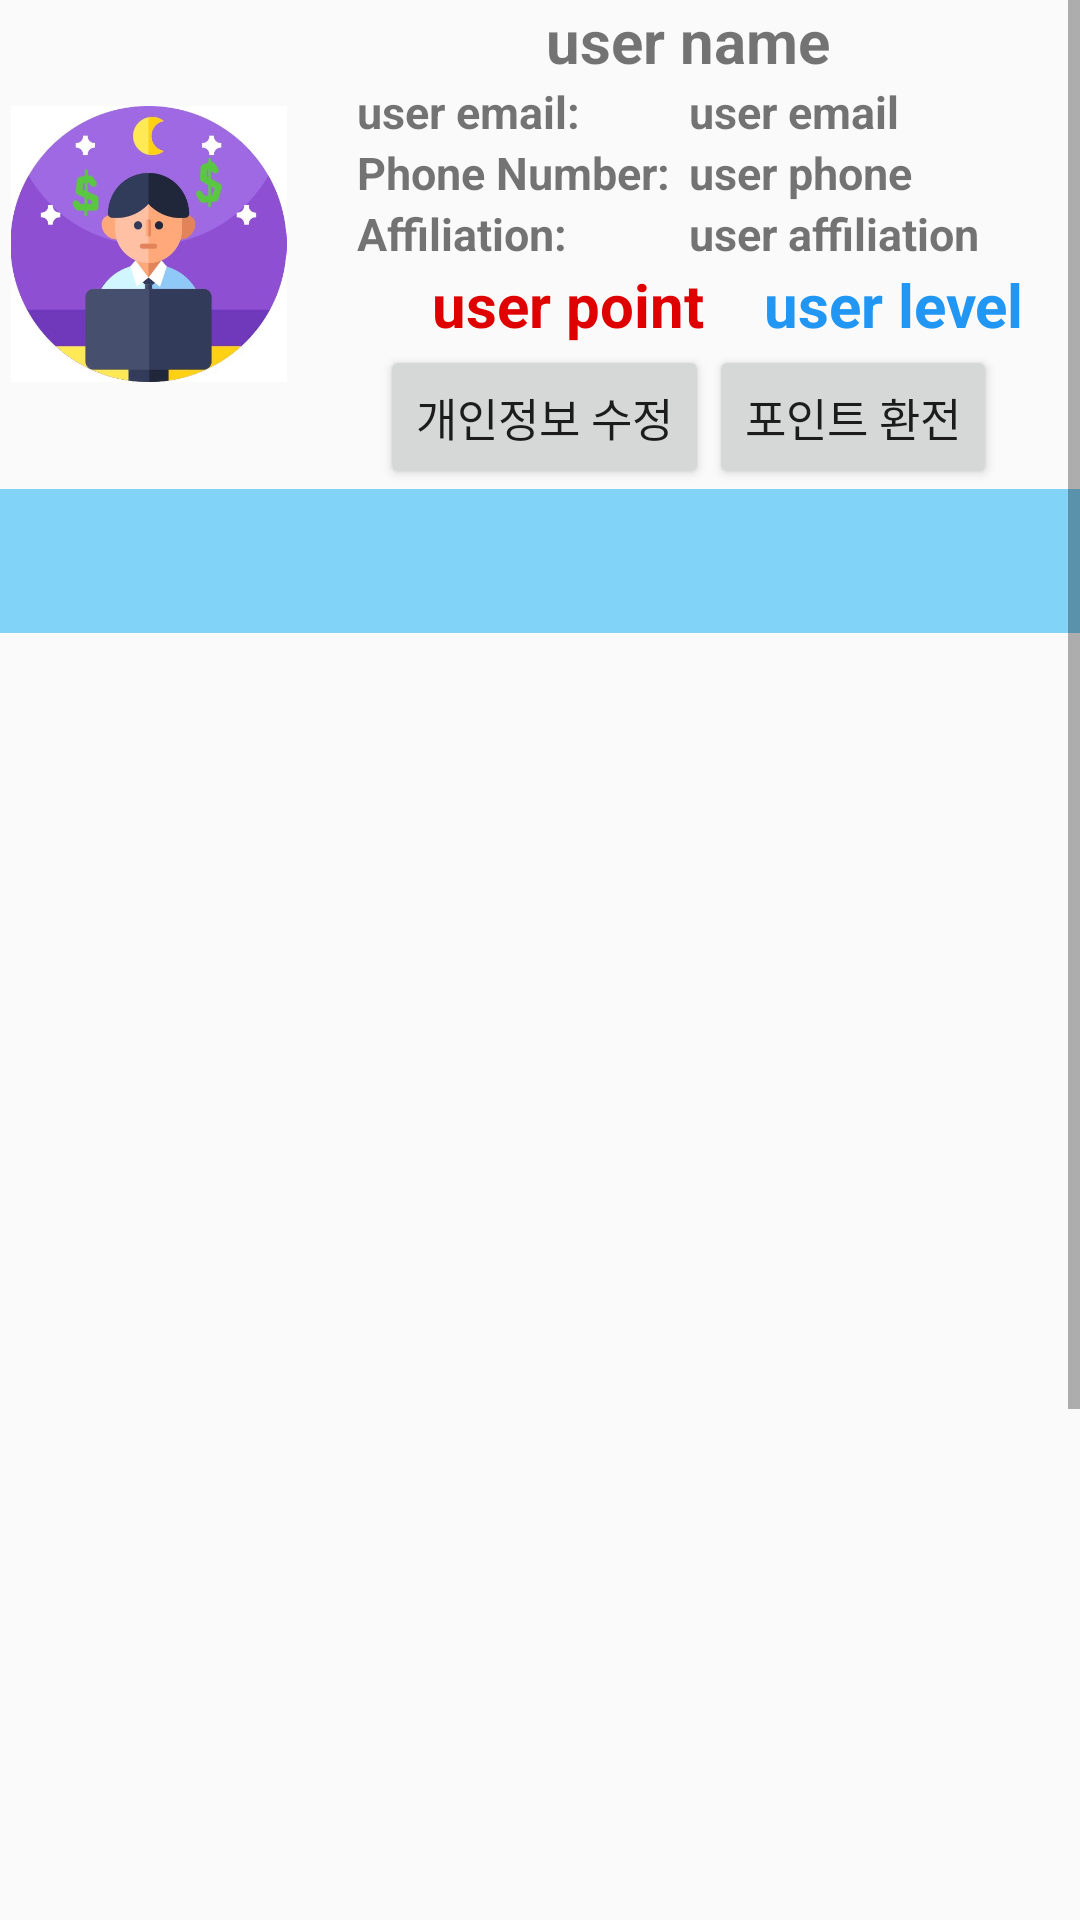

Screen size 1080*1920. Icon name, then its box in pixels as (x1, y1, x2, y2):
mypage user: (11, 106, 287, 382)
